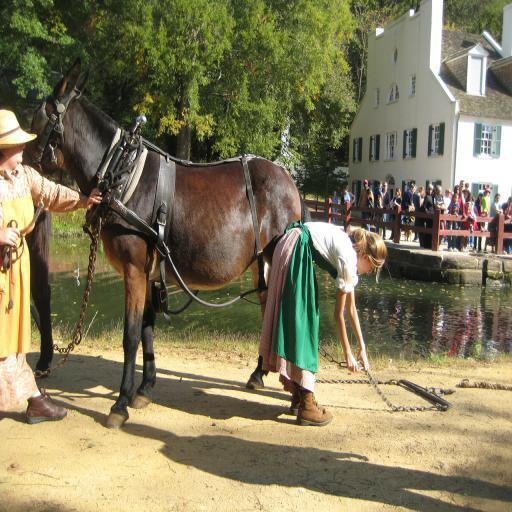horse: (20, 56, 312, 430)
